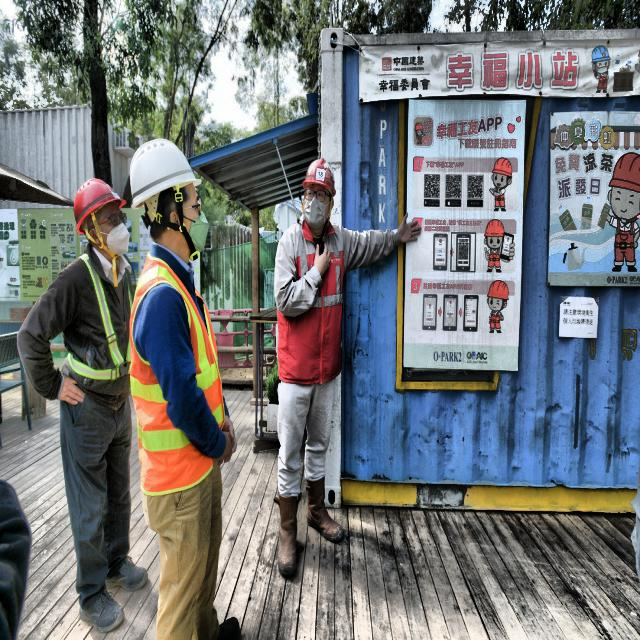safety_helmet: (120, 136, 206, 206), (72, 175, 129, 238), (299, 156, 339, 193)
safety_jacket: (127, 250, 229, 500), (63, 257, 131, 432), (282, 224, 346, 389)
